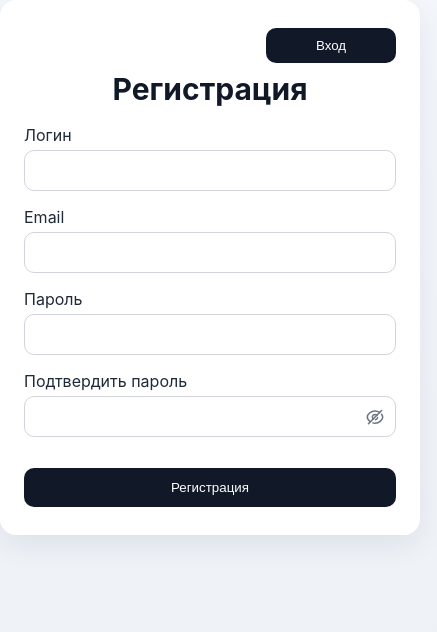
Test: Registration › error handling with email
Type "Alex" into the field labelled "Логин".
click(210, 170); type("Alex")  # box [24,150,396,191]
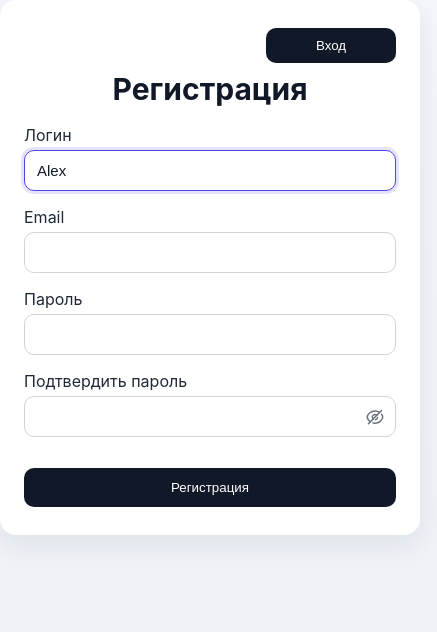
Type "test@mail.ru" into the field labelled "Email".
click(210, 252); type("test@mail.ru")  # box [24,232,396,273]
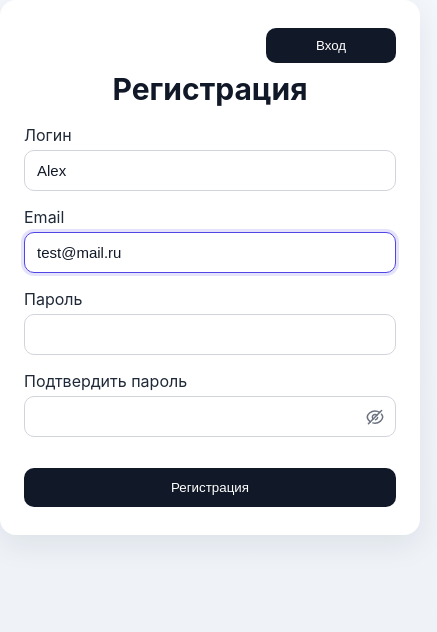
Type "pass123" into the password field labelled "Пароль".
click(210, 334); type("pass123")  # box [24,314,396,355]
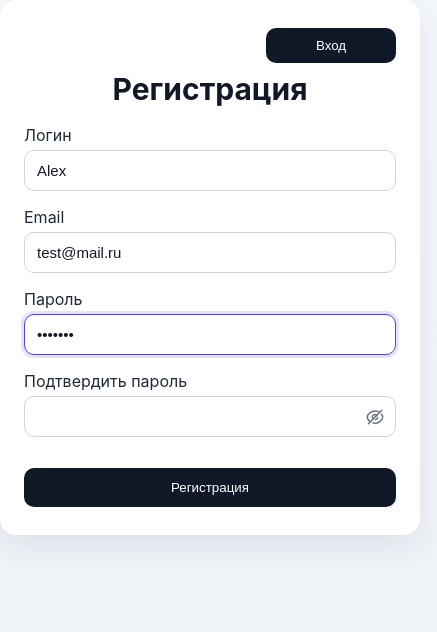
Type "pass123" into the password field labelled "Подтвердить пароль".
click(210, 416); type("pass123")  # box [24,396,396,437]
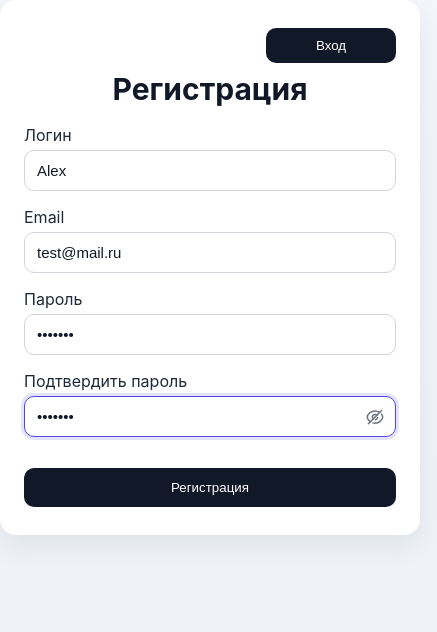
Click the button "Регистрация".
click(210, 488)  # box [24,468,396,507]
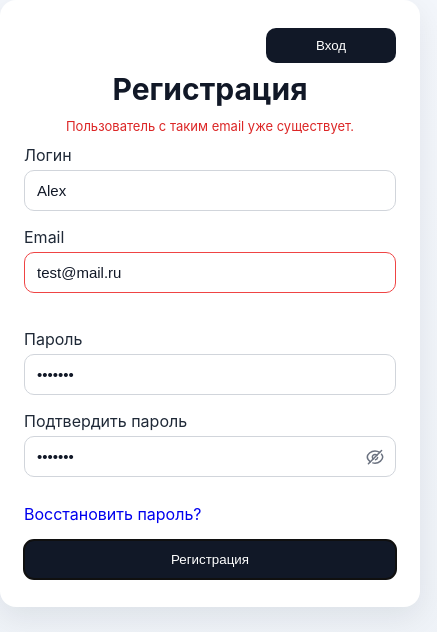
Expected: the text "Пользователь с таким email уже существует." is shown, [66,118,354,134]
